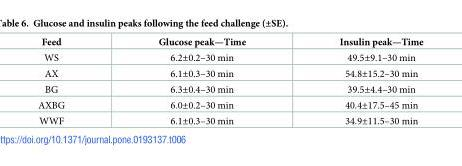table: (37, 36, 422, 126)
table column: (110, 36, 291, 126), (291, 36, 422, 126), (37, 36, 110, 126)
table column header: (37, 36, 422, 48)
table row: (37, 48, 422, 65), (37, 80, 422, 96), (37, 96, 422, 112), (37, 65, 422, 80), (37, 112, 422, 126), (37, 36, 422, 48)
